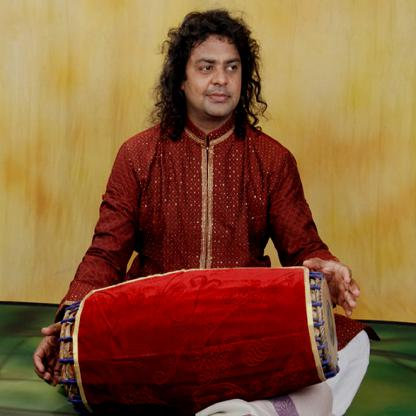Mridangam: (52, 262, 341, 411)
